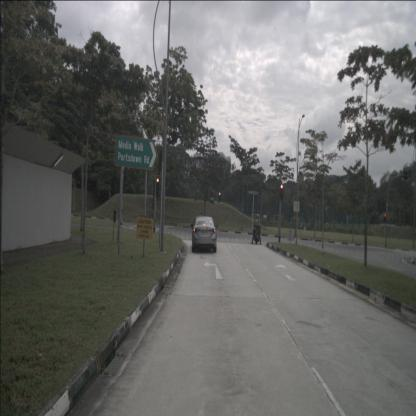vehicle-car: (192, 216, 216, 253)
vehicle-motorcycle: (251, 213, 262, 245)
